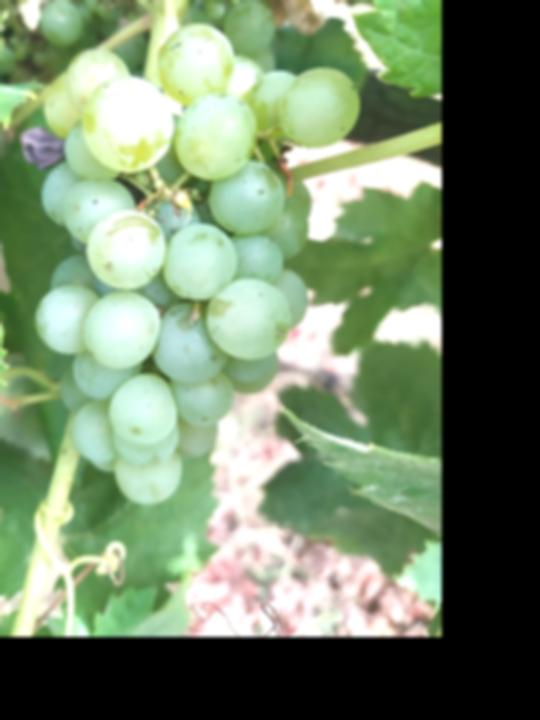grape: (31, 20, 364, 508)
